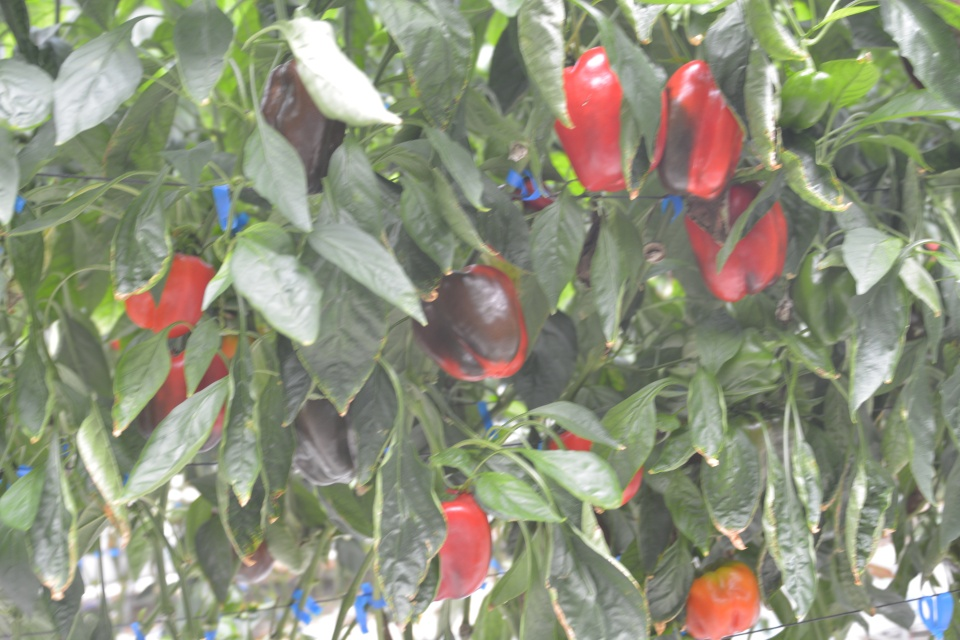fruit: (554, 43, 669, 197), (412, 260, 531, 383), (684, 178, 788, 301), (656, 60, 745, 201), (264, 57, 346, 196), (133, 345, 231, 453), (124, 248, 218, 340), (550, 429, 643, 513), (431, 487, 493, 602), (792, 246, 859, 344), (681, 560, 763, 640), (292, 384, 355, 488), (780, 68, 830, 132)
